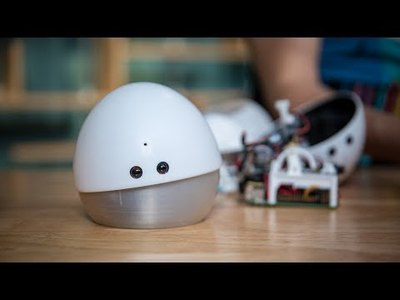mira_robot: (74, 82, 221, 229)
